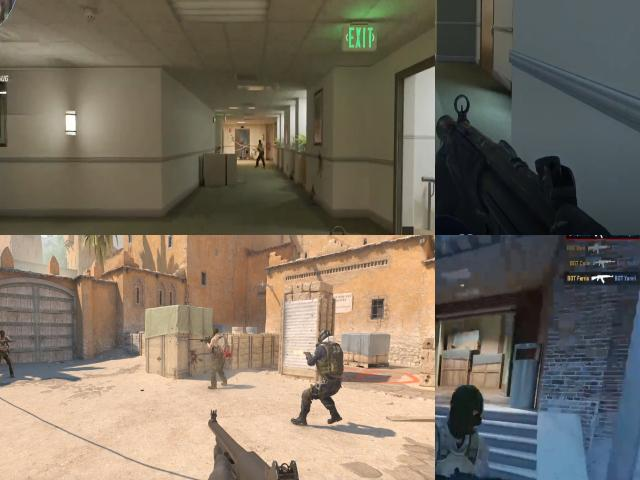CT: (308, 330, 343, 420)
CT-Head: (318, 331, 334, 348)
T: (435, 417, 500, 480), (209, 327, 222, 386), (0, 328, 10, 377), (255, 137, 266, 167)
T-Head: (440, 382, 490, 437), (212, 327, 221, 339), (258, 138, 264, 146), (0, 330, 6, 338)
